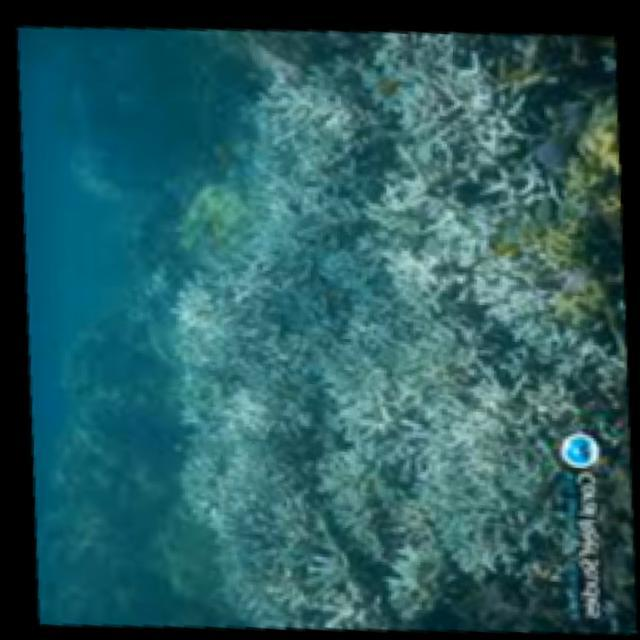Dead Coral: (239, 8, 562, 265), (346, 267, 569, 632), (153, 278, 367, 616)
